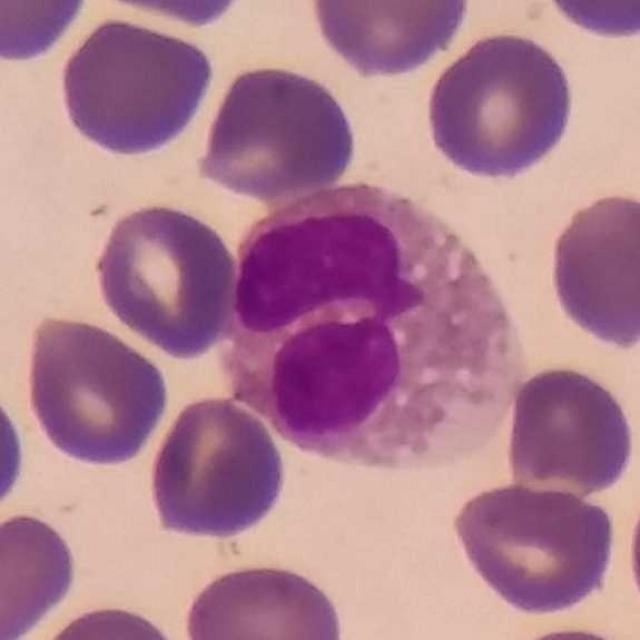Eosinophil: (225, 188, 523, 468)
RBC: (89, 197, 244, 360), (422, 27, 581, 184), (20, 310, 173, 471), (55, 13, 218, 162), (194, 59, 360, 204), (448, 478, 621, 616), (144, 393, 290, 544), (501, 360, 639, 500), (544, 187, 640, 353), (179, 557, 349, 640), (305, 0, 475, 80), (0, 508, 81, 640), (30, 600, 187, 640), (0, 0, 92, 67), (74, 0, 260, 30), (534, 0, 639, 43), (0, 377, 29, 523), (622, 468, 640, 631), (494, 621, 639, 640)
